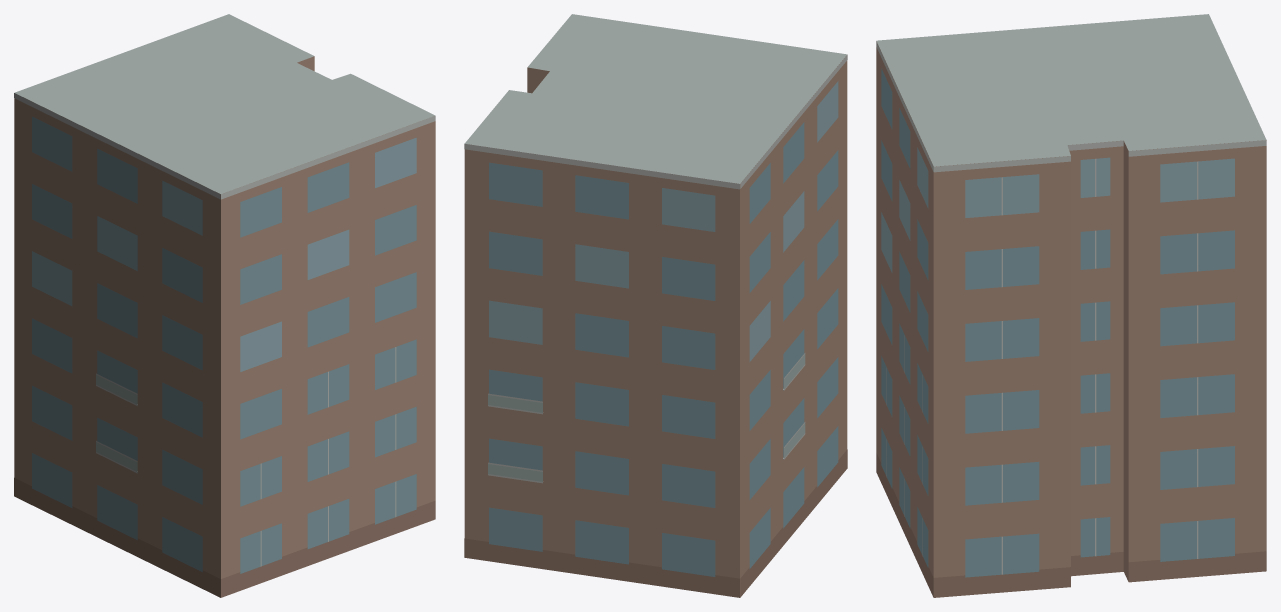
File: survey-upis-32871101.glb
3 views of the same model, side by side, from view 1: azimuth 30°, elevation 25°; view 2: azimuth 150°, elevation 25°; view 3: azimuth 270°, elevation 25° (orthographic). The views are drawn at different scales.
Parts seen in each view (by area): view 1: survey-upis-32871101.tmp; view 2: survey-upis-32871101.tmp; view 3: survey-upis-32871101.tmp.
Boxes of the visible parts, box(x1,y1,x2,y2) form: survey-upis-32871101.tmp: box(14, 14, 435, 597); survey-upis-32871101.tmp: box(464, 14, 847, 597); survey-upis-32871101.tmp: box(876, 14, 1266, 597).
Size of the model in its own units: 13.9 by 18.3 by 15.02.
